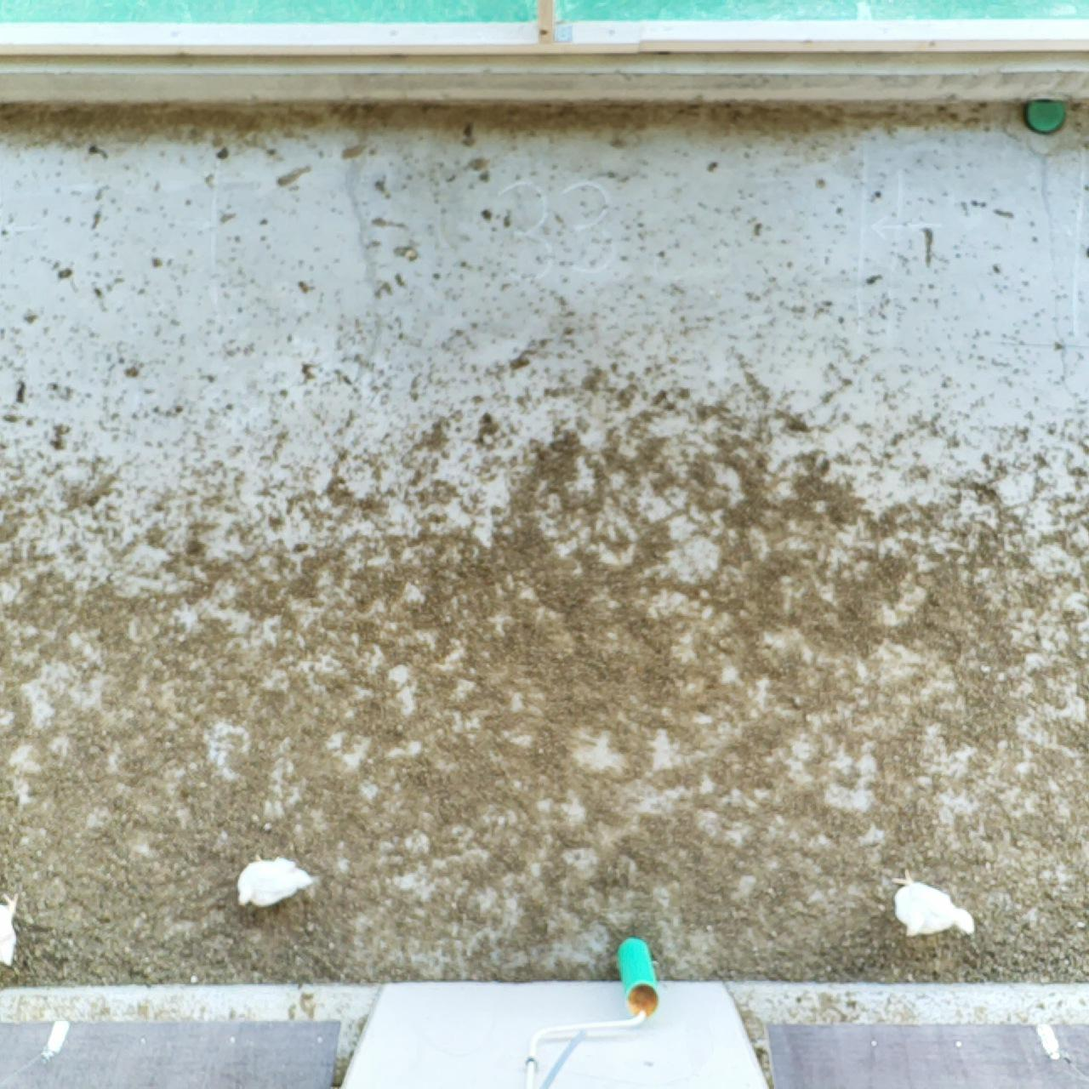chicken: (887, 865, 980, 950), (229, 846, 316, 911), (0, 888, 26, 972)
